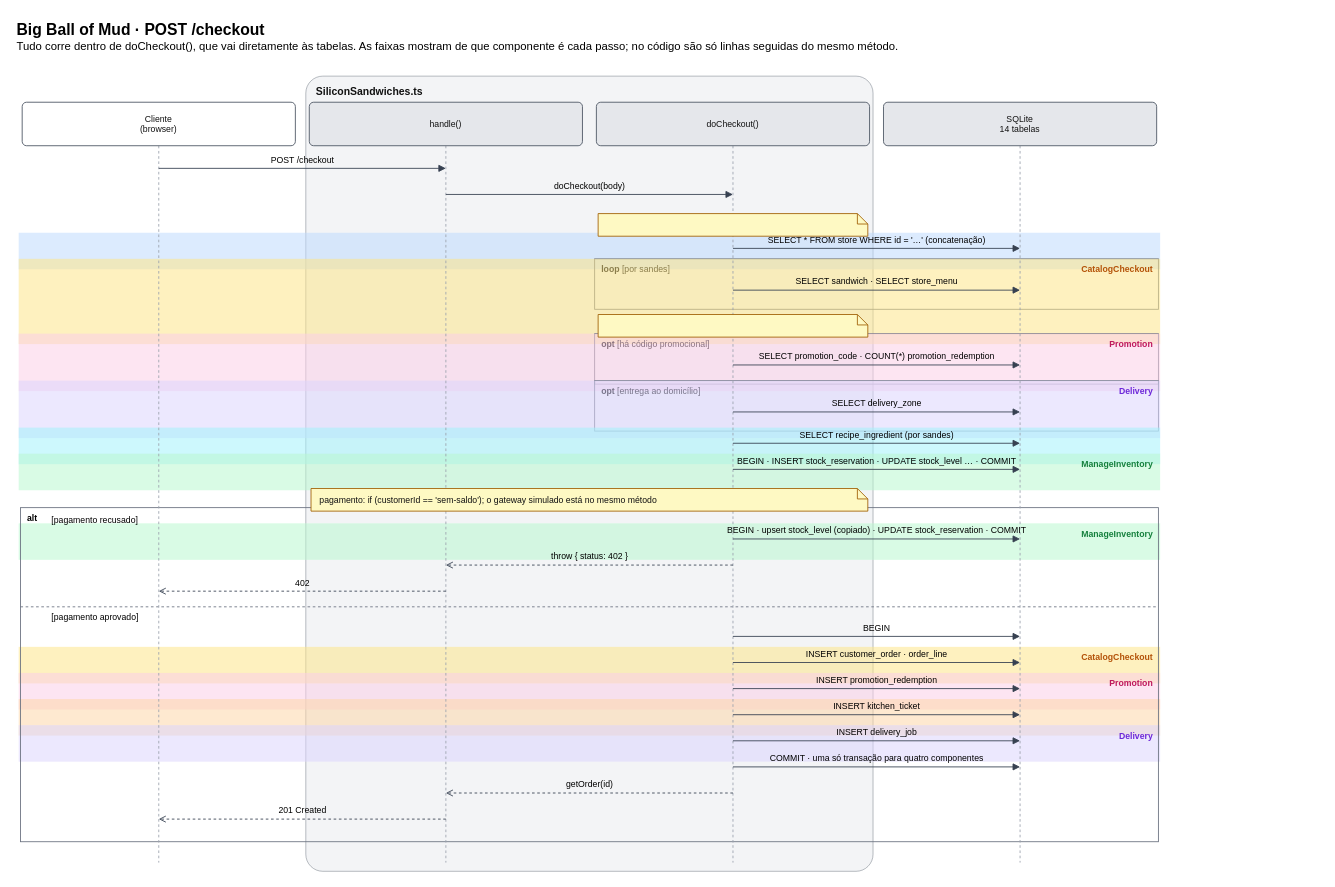
The diagram is 1335 pixels wide and 887 high, and some of its shapes have lost their labels. The centre of each missing label's shape, as x and y in pixels:
a regra do preço local, outra vez em JS: the point at 732,325
Location: the point at 589,250
MakeOrder: the point at 589,717
Recipes: the point at 589,445
valida o pedido (throw … status 422): the point at 732,224
